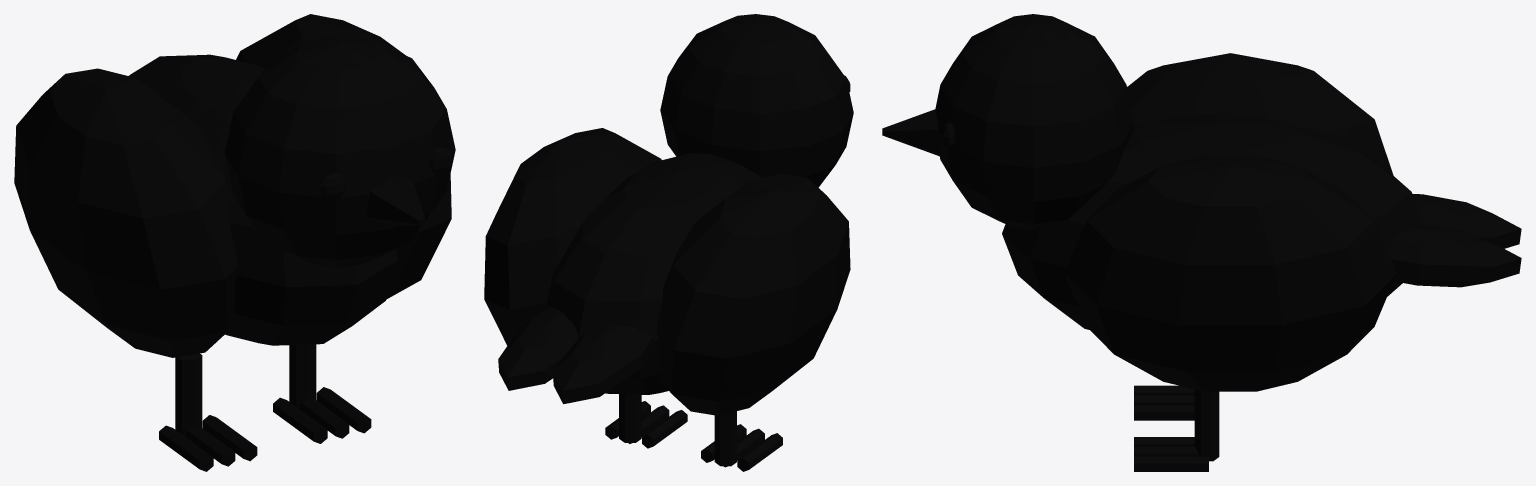
Rendered from perched.glb.
3 views of the same model, side by side, from view 1: azimuth 30°, elevation 25°; view 2: azimuth 150°, elevation 25°; view 3: azimuth 270°, elevation 25° (orthographic). The views are drawn at different scales.
Parts seen in each view (by area): view 1: Wing_L, Head, Body, Wing_R, Beak, Leg_L, Leg_R, Toe_L_0, Toe_R_0, Toe_R_2, Toe_L_2, Toe_L_1 (+3 smaller); view 2: Wing_L, Head, Body, Wing_R, Tail_L, Tail_R, Leg_L, Leg_R, Toe_L_0, Toe_R_0, Toe_R_1, Toe_L_1; view 3: Wing_R, Head, Body, Wing_L, Tail_R, Tail_L, Leg_R, Beak, Toe_R_2, Toe_L_2, Toe_R_1, Toe_L_1.
Boxes of the visible parts, x1,y1,x2,y2 form: Wing_L: (14,68,237,357); Head: (224,35,455,267); Body: (129,54,397,345); Wing_R: (236,14,451,299); Beak: (366,176,425,225); Leg_L: (175,353,202,436); Leg_R: (289,344,316,408); Toe_L_0: (159,425,213,471); Toe_R_0: (273,397,327,443); Toe_R_2: (316,387,371,433); Toe_L_2: (202,415,257,461); Toe_L_1: (185,426,235,466); Wing_L: (656,173,850,415); Head: (660,14,853,187); Body: (545,153,763,394); Wing_R: (484,128,661,345); Tail_L: (553,325,654,404); Tail_R: (498,307,578,390); Leg_L: (714,411,736,466); Leg_R: (619,394,641,442); Toe_L_0: (737,433,782,471); Toe_R_0: (642,410,687,448); Toe_R_1: (628,405,669,443); Toe_L_1: (724,428,764,467); Wing_R: (1064,155,1396,391); Head: (935,14,1133,229); Body: (1002,113,1423,329); Wing_L: (1127,53,1393,175); Tail_R: (1387,223,1521,287); Tail_L: (1412,194,1521,248); Leg_R: (1194,389,1219,461); Beak: (882,109,943,156); Toe_R_2: (1134,456,1208,471); Toe_L_2: (1134,405,1194,420); Toe_R_1: (1134,446,1198,456); Toe_L_1: (1134,395,1194,405).
Bounding box in the file's own units: 0.0985 × 0.1177 × 0.1653.
7 materials, 7 textured.
